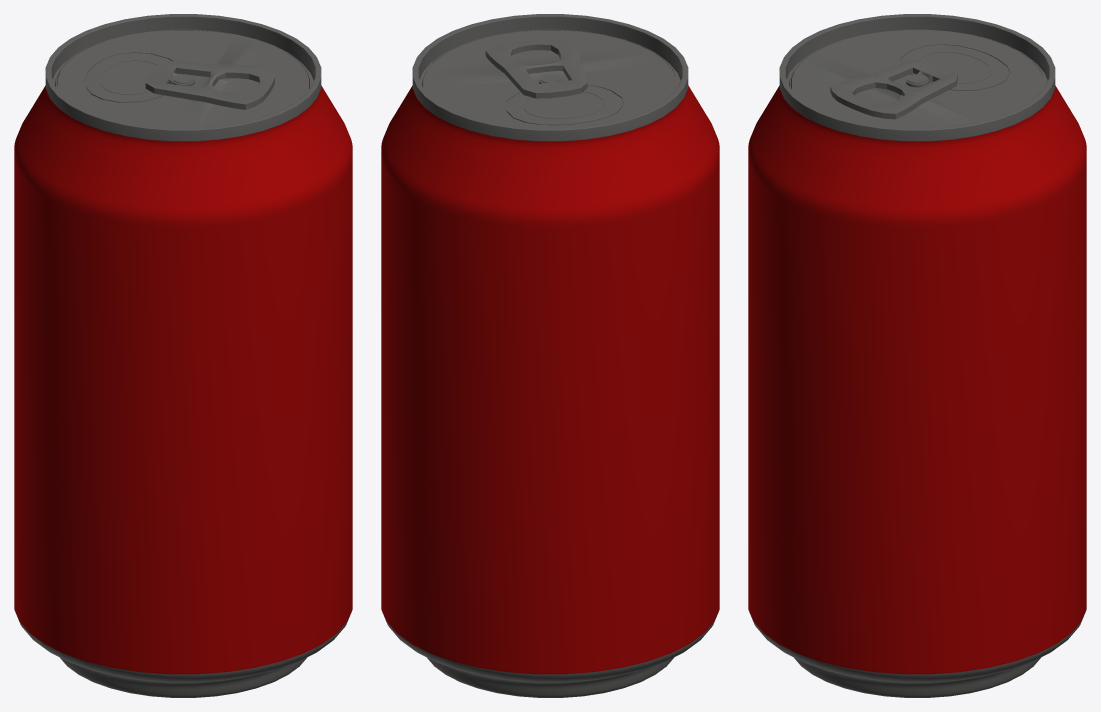
3 views of the same model, side by side, from view 1: azimuth 30°, elevation 25°; view 2: azimuth 150°, elevation 25°; view 3: azimuth 270°, elevation 25° (orthographic).
Parts seen in each view (by area): view 1: mesh19-geometry-0, mesh20-geometry-0, mesh19-geometry-1; view 2: mesh19-geometry-0, mesh20-geometry-0, mesh19-geometry-1; view 3: mesh19-geometry-0, mesh20-geometry-0, mesh19-geometry-1.
Part boxes in pixels (box(x1,y1,x2,y2)): mesh19-geometry-0: box(14, 73, 352, 674); mesh20-geometry-0: box(45, 14, 321, 141); mesh19-geometry-1: box(14, 610, 352, 697); mesh19-geometry-0: box(381, 74, 719, 674); mesh20-geometry-0: box(412, 14, 688, 141); mesh19-geometry-1: box(381, 610, 719, 697); mesh19-geometry-0: box(748, 73, 1086, 674); mesh20-geometry-0: box(779, 14, 1055, 141); mesh19-geometry-1: box(748, 610, 1086, 697).
Size of the model in its own units: 0.4268 by 0.7973 by 0.4268.
